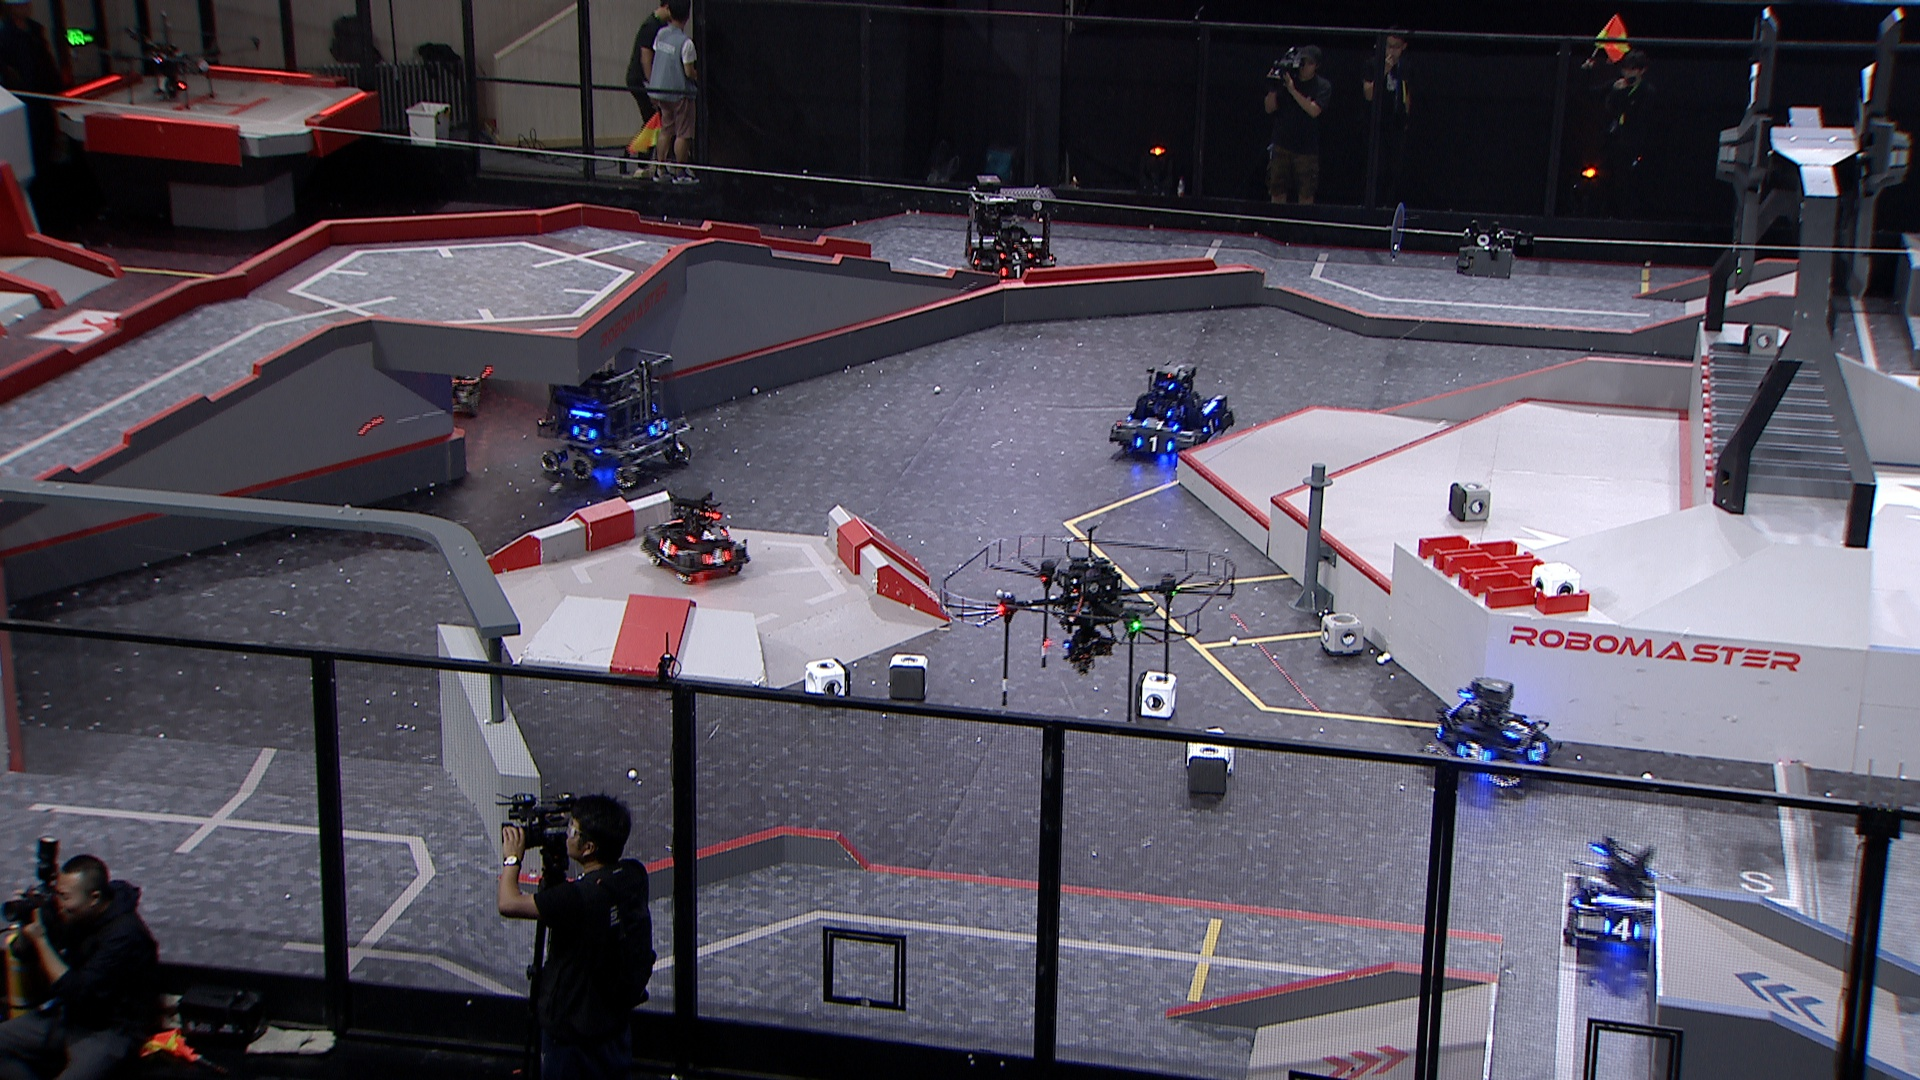armor: (1600, 916, 1643, 942), (1133, 434, 1176, 455), (1453, 741, 1494, 764), (1501, 713, 1534, 740), (684, 526, 731, 543), (700, 547, 732, 567), (1139, 418, 1182, 433), (1524, 741, 1548, 765), (1000, 262, 1030, 280), (571, 425, 599, 443), (654, 535, 678, 556), (997, 249, 1034, 262), (645, 418, 669, 438), (1201, 419, 1220, 436), (965, 249, 982, 266)
car: (535, 344, 692, 488), (1416, 676, 1563, 789), (1560, 835, 1684, 957), (1106, 363, 1233, 465), (638, 488, 752, 584), (963, 185, 1059, 282)
